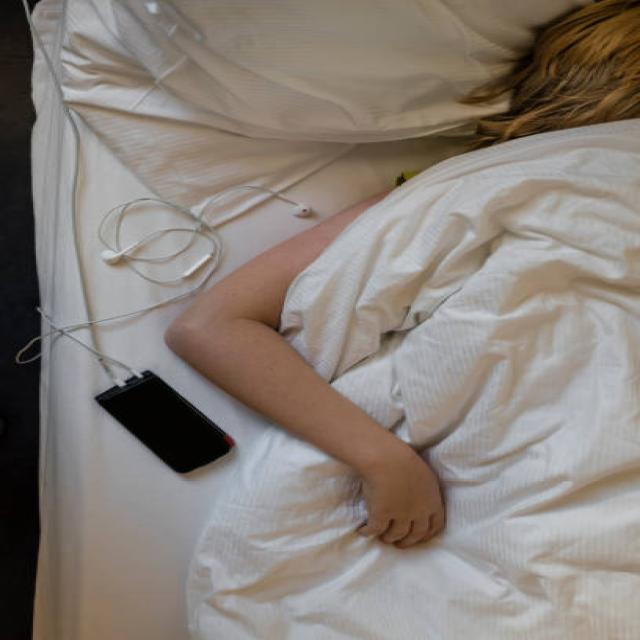Earphone: (18, 180, 316, 378)
